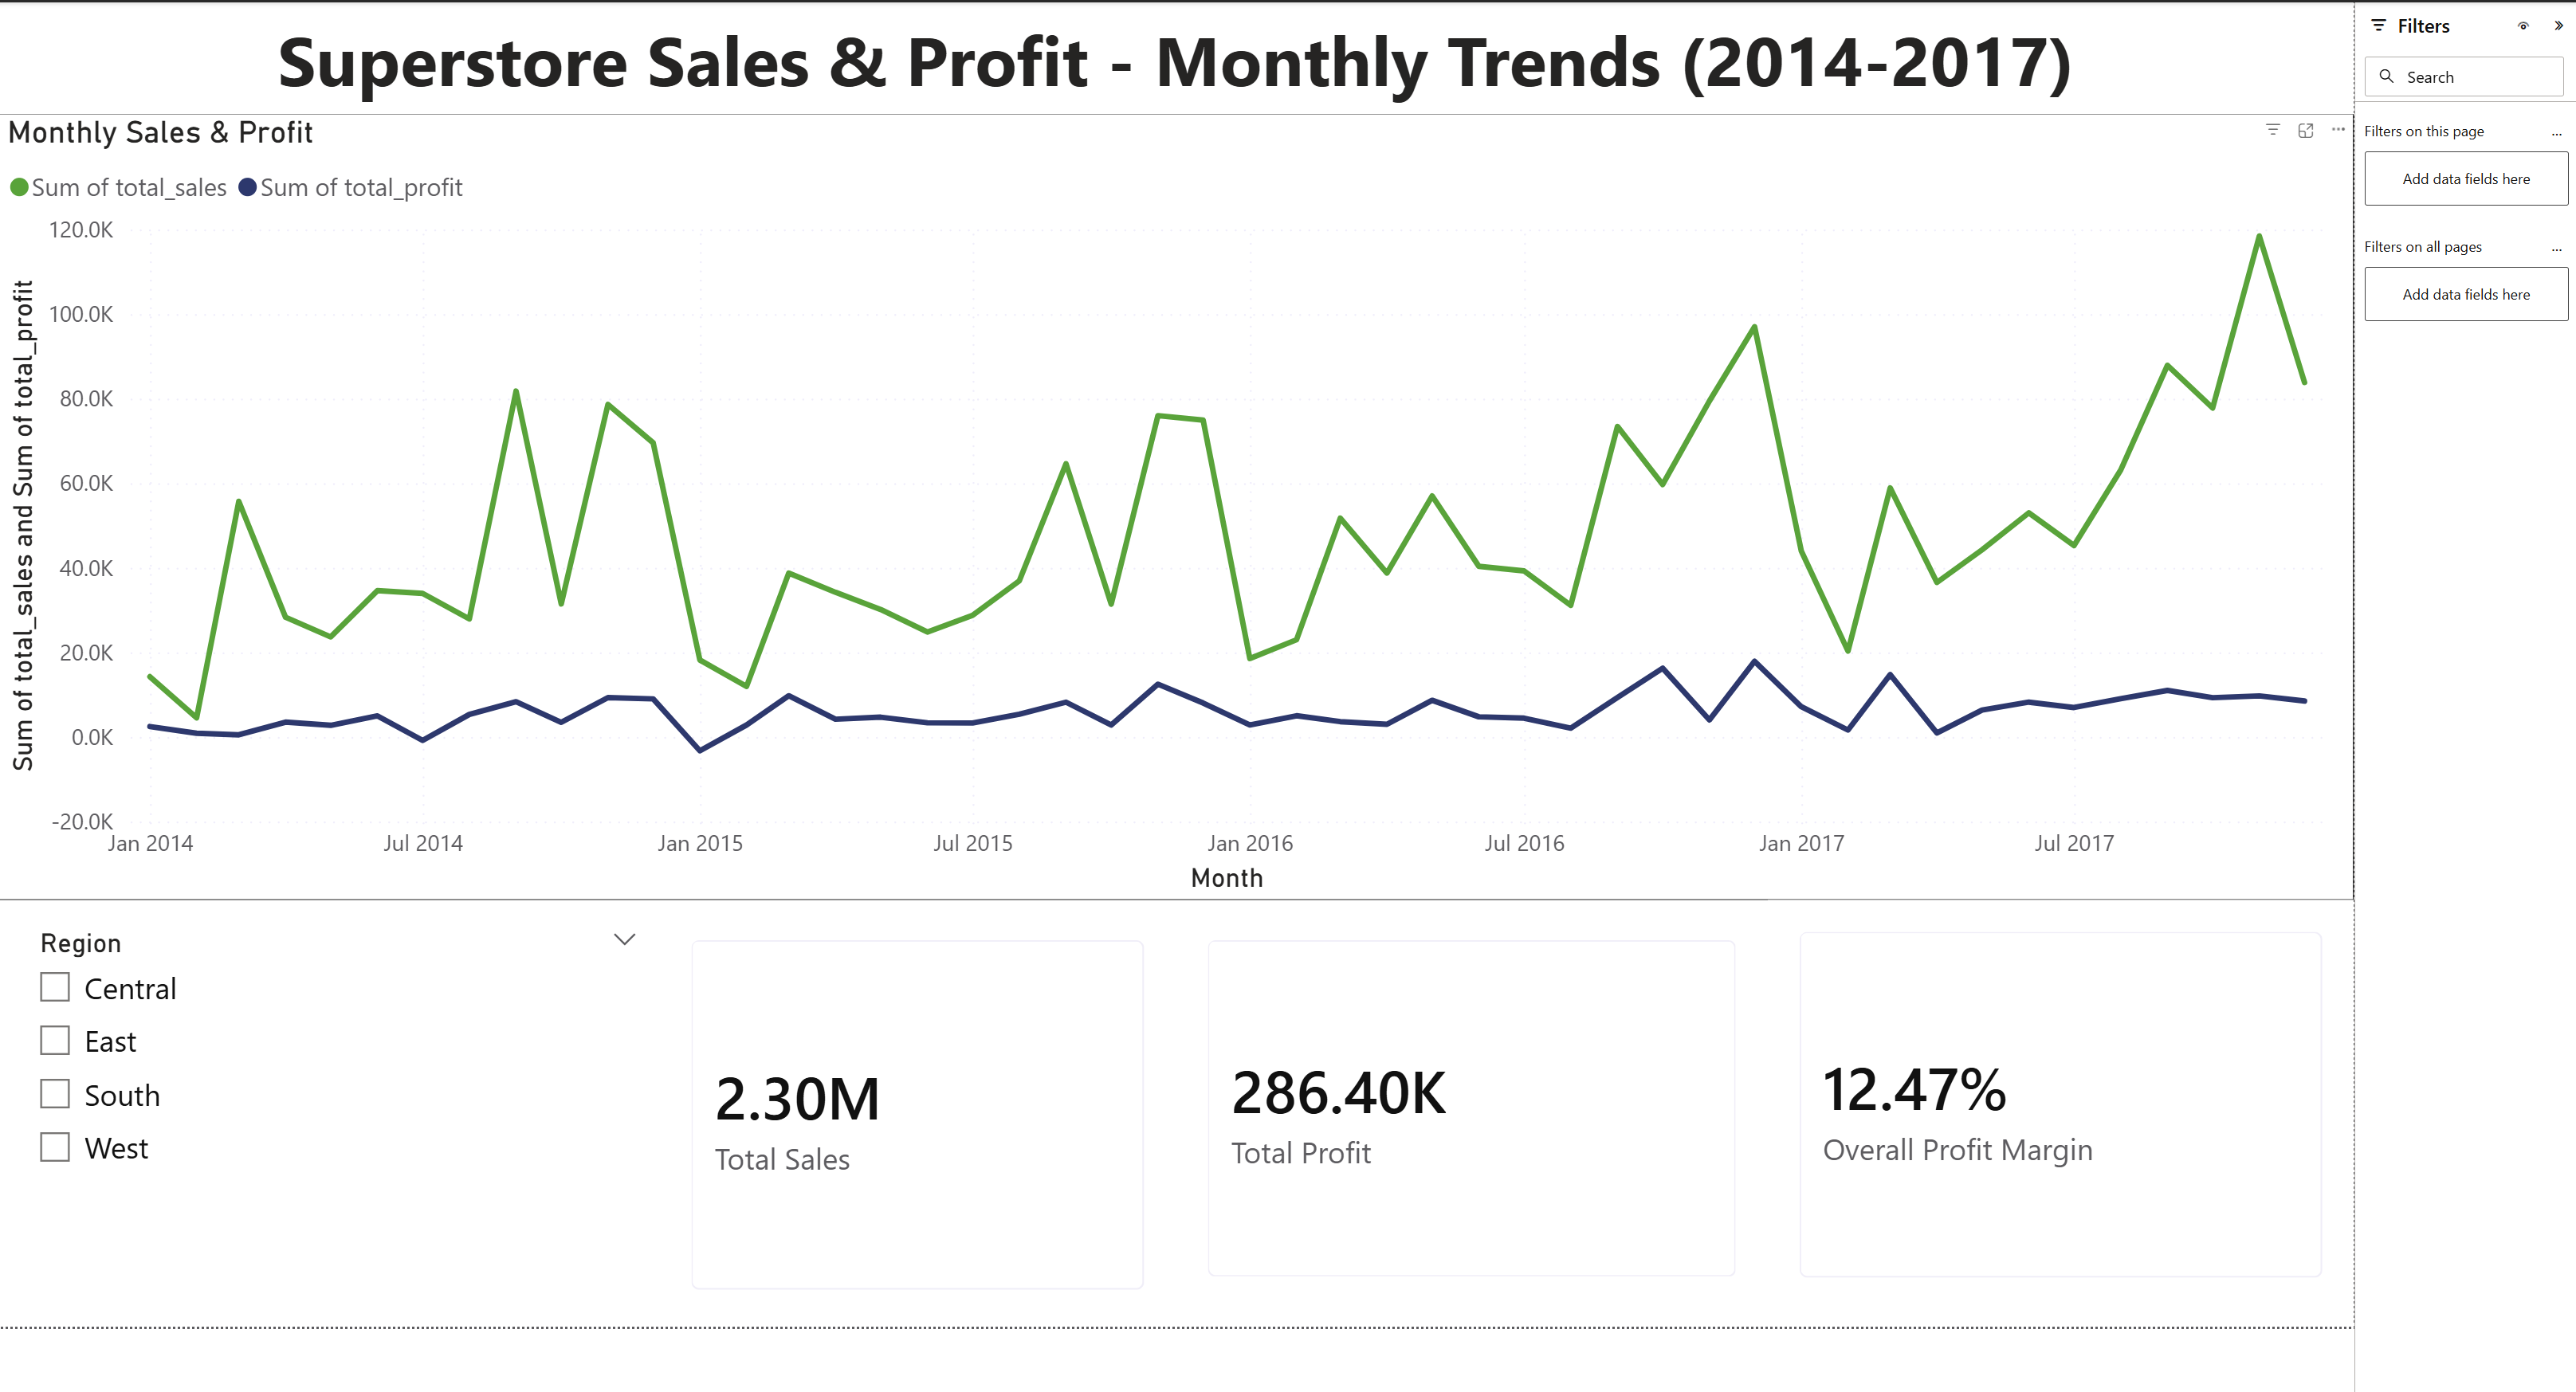

What the dashboard file says about the page in this screenshot:
{"tool":"powerbi","page":{"name":"Monthly Sales & Profit by Region (2014–2017)","canvas":[1280,720],"ordinal":0},"visuals":[{"type":"lineChart","title":"Monthly Sales & Profit","fields":{"Y":["Sum(public superstore_monthly_trends.total_sales)","Sum(public superstore_monthly_trends.total_profit)"],"Category":["public superstore_monthly_trends.Month"]},"box":[0,60.4,1279.8,427.5],"z":0},{"type":"slicer","fields":{"Values":["public superstore_monthly_trends.Region"]},"box":[9.7,497.6,349.5,222.2],"z":1000},{"type":"cardVisual","fields":{"Data":["Sum(public superstore_monthly_trends.total_sales)"]},"box":[359.2,492.4,280.6,224.1],"z":2000},{"type":"cardVisual","fields":{"Data":["Sum(public superstore_monthly_trends.total_profit)"]},"box":[639.9,492.4,321.6,217.6],"z":3000},{"type":"cardVisual","fields":{"Data":["public superstore_monthly_trends.Overall Profit Margin"]},"box":[961.5,487.9,318.3,222.2],"z":4000},{"type":"textbox","box":[0,0,1279.8,60.4],"z":4001}]}

Visuals, with their boxes on the page's 1280x720 design canvas (x1, y1, x2, y2). These are canvas units, not pixel positions in the 2576x1392 screenshot, which may show the page scaled, cropped or inside an application window:
"Monthly Sales & Profit" lineChart: bbox(0, 60, 1280, 488)
slicer - public superstore_monthly_trends.Region: bbox(10, 498, 359, 720)
cardVisual - Sum(public superstore_monthly_trends.total_sales): bbox(359, 492, 640, 716)
cardVisual - Sum(public superstore_monthly_trends.total_profit): bbox(640, 492, 962, 710)
cardVisual - public superstore_monthly_trends.Overall Profit Margin: bbox(962, 488, 1280, 710)
textbox: bbox(0, 0, 1280, 60)
